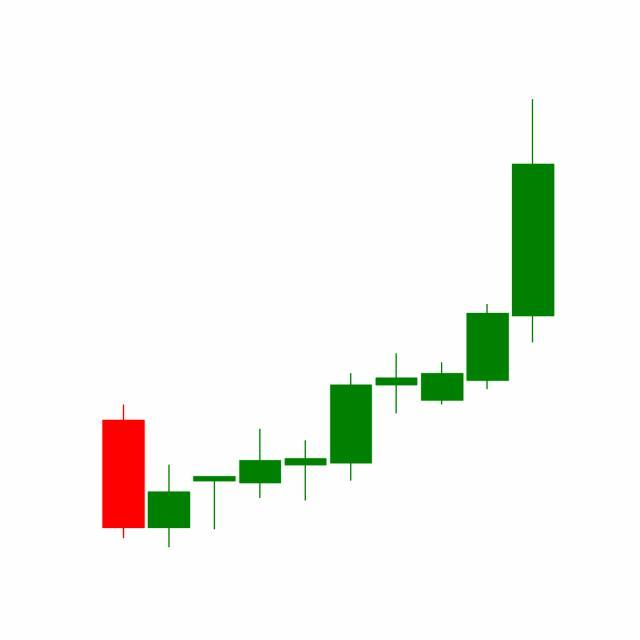Hikkake Pattern: (283, 302, 512, 503)
